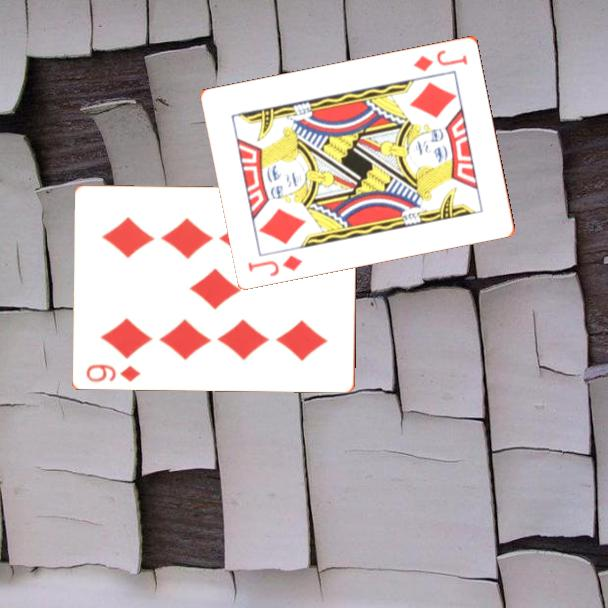d09: (83, 360, 144, 385)
d11: (410, 46, 471, 74), (245, 251, 306, 279)
